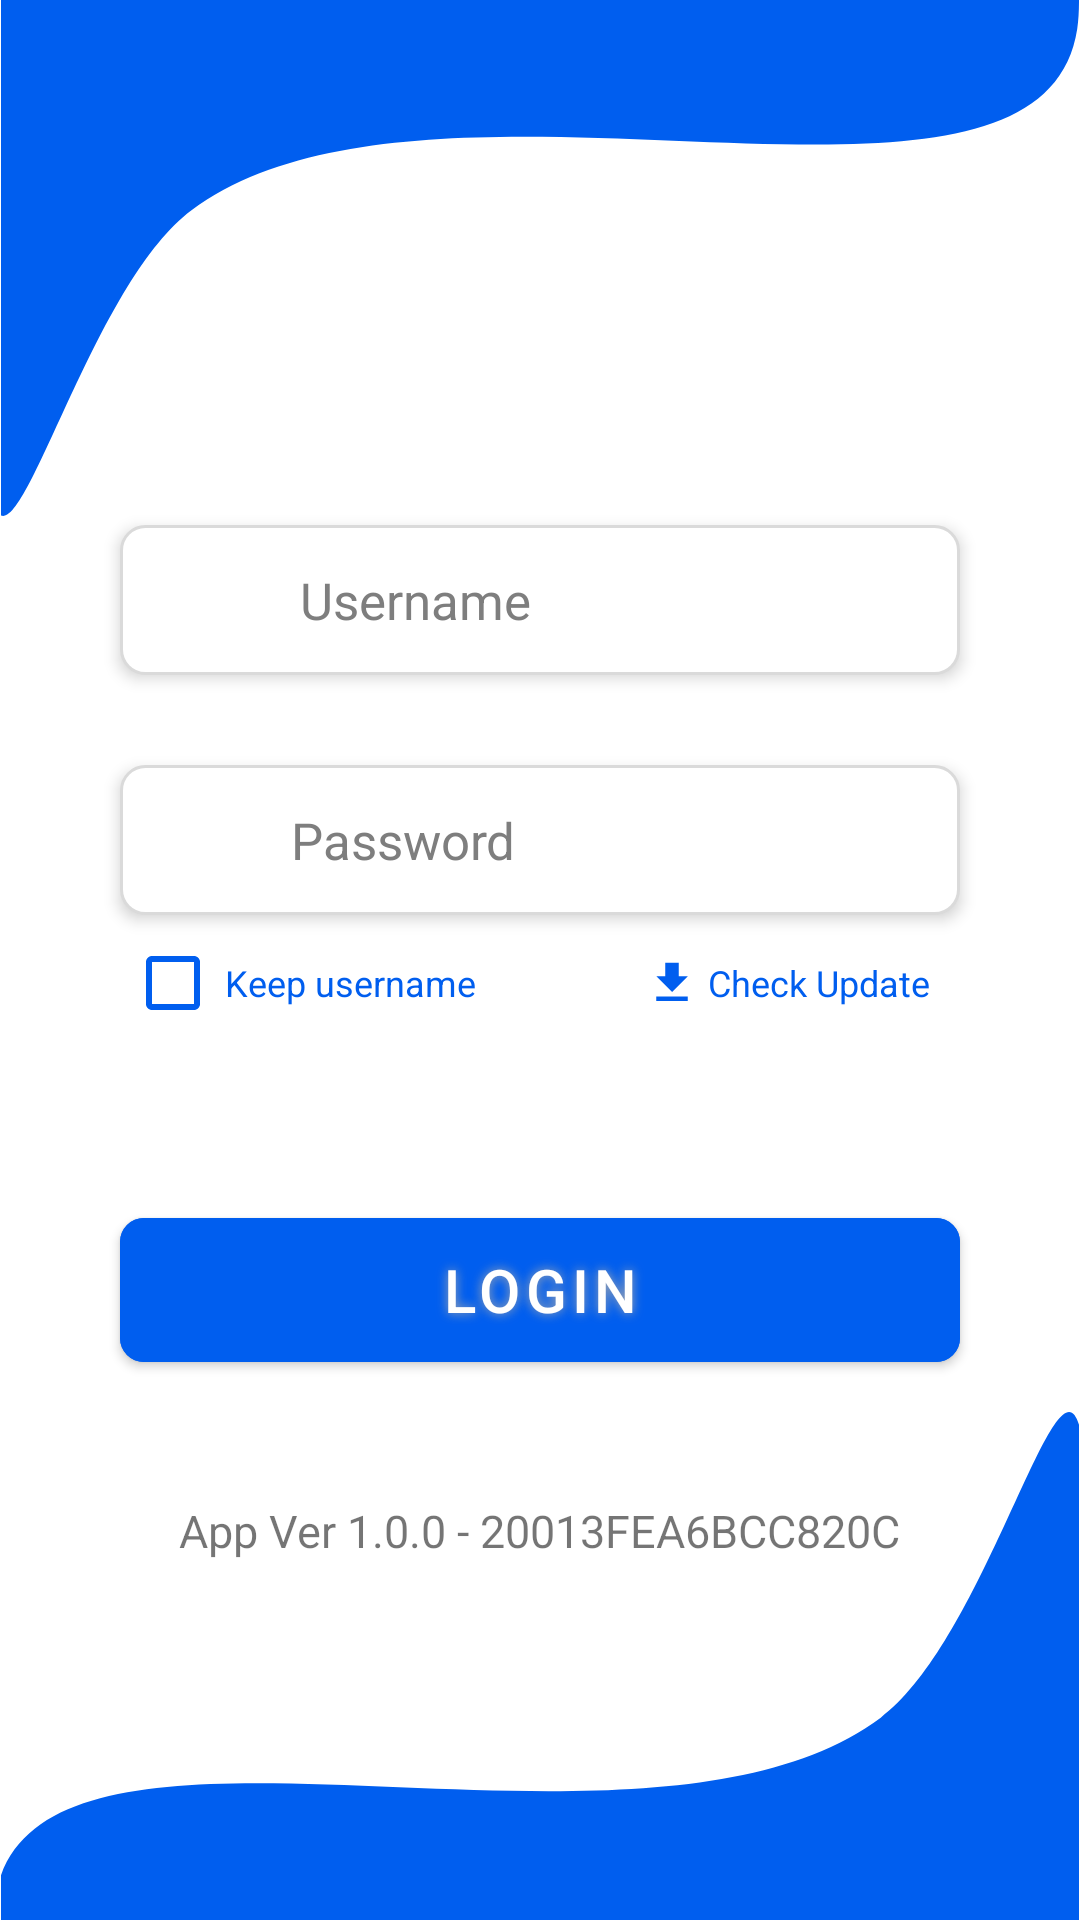

Icons on this 1080 × 1920 Android screen, each with the point to tap as point (x, y):
download: point (672, 981)
